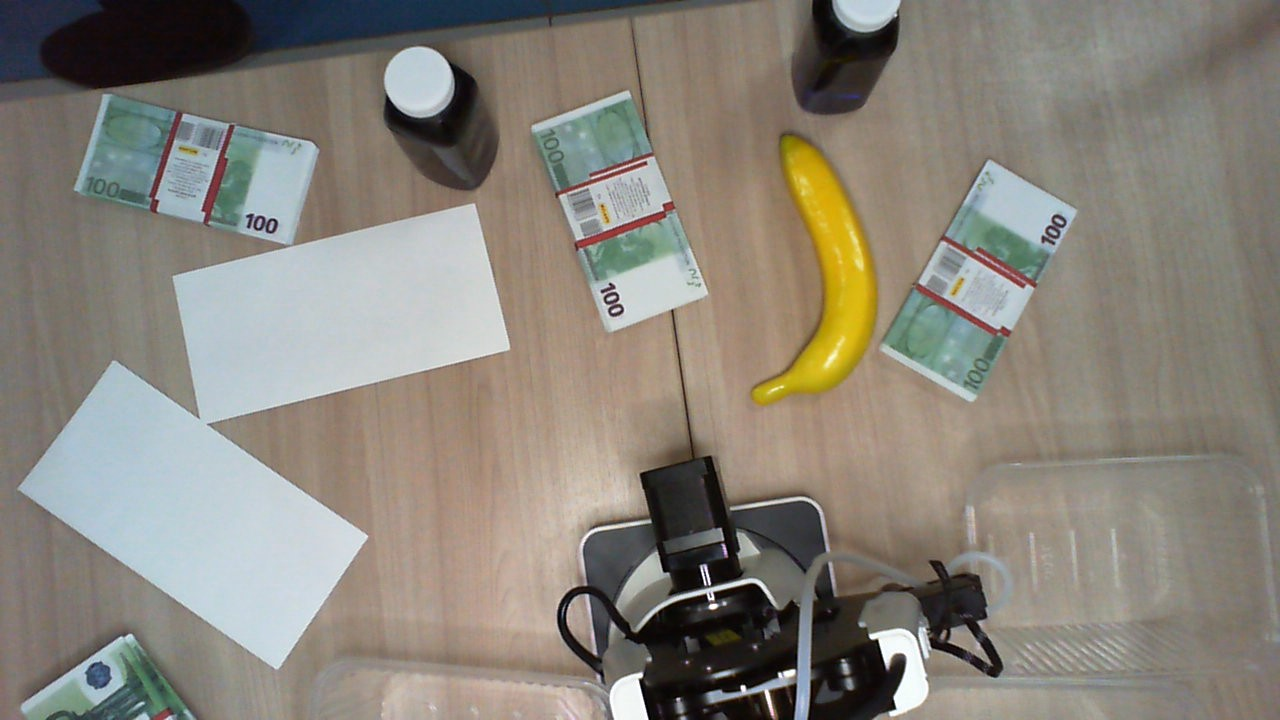banana: (754, 130, 880, 415)
bottle: (371, 45, 485, 144), (804, 1, 899, 64)
convert: (15, 357, 371, 675), (172, 202, 513, 425)
money: (882, 150, 1073, 402), (533, 85, 701, 330), (73, 87, 313, 245)
